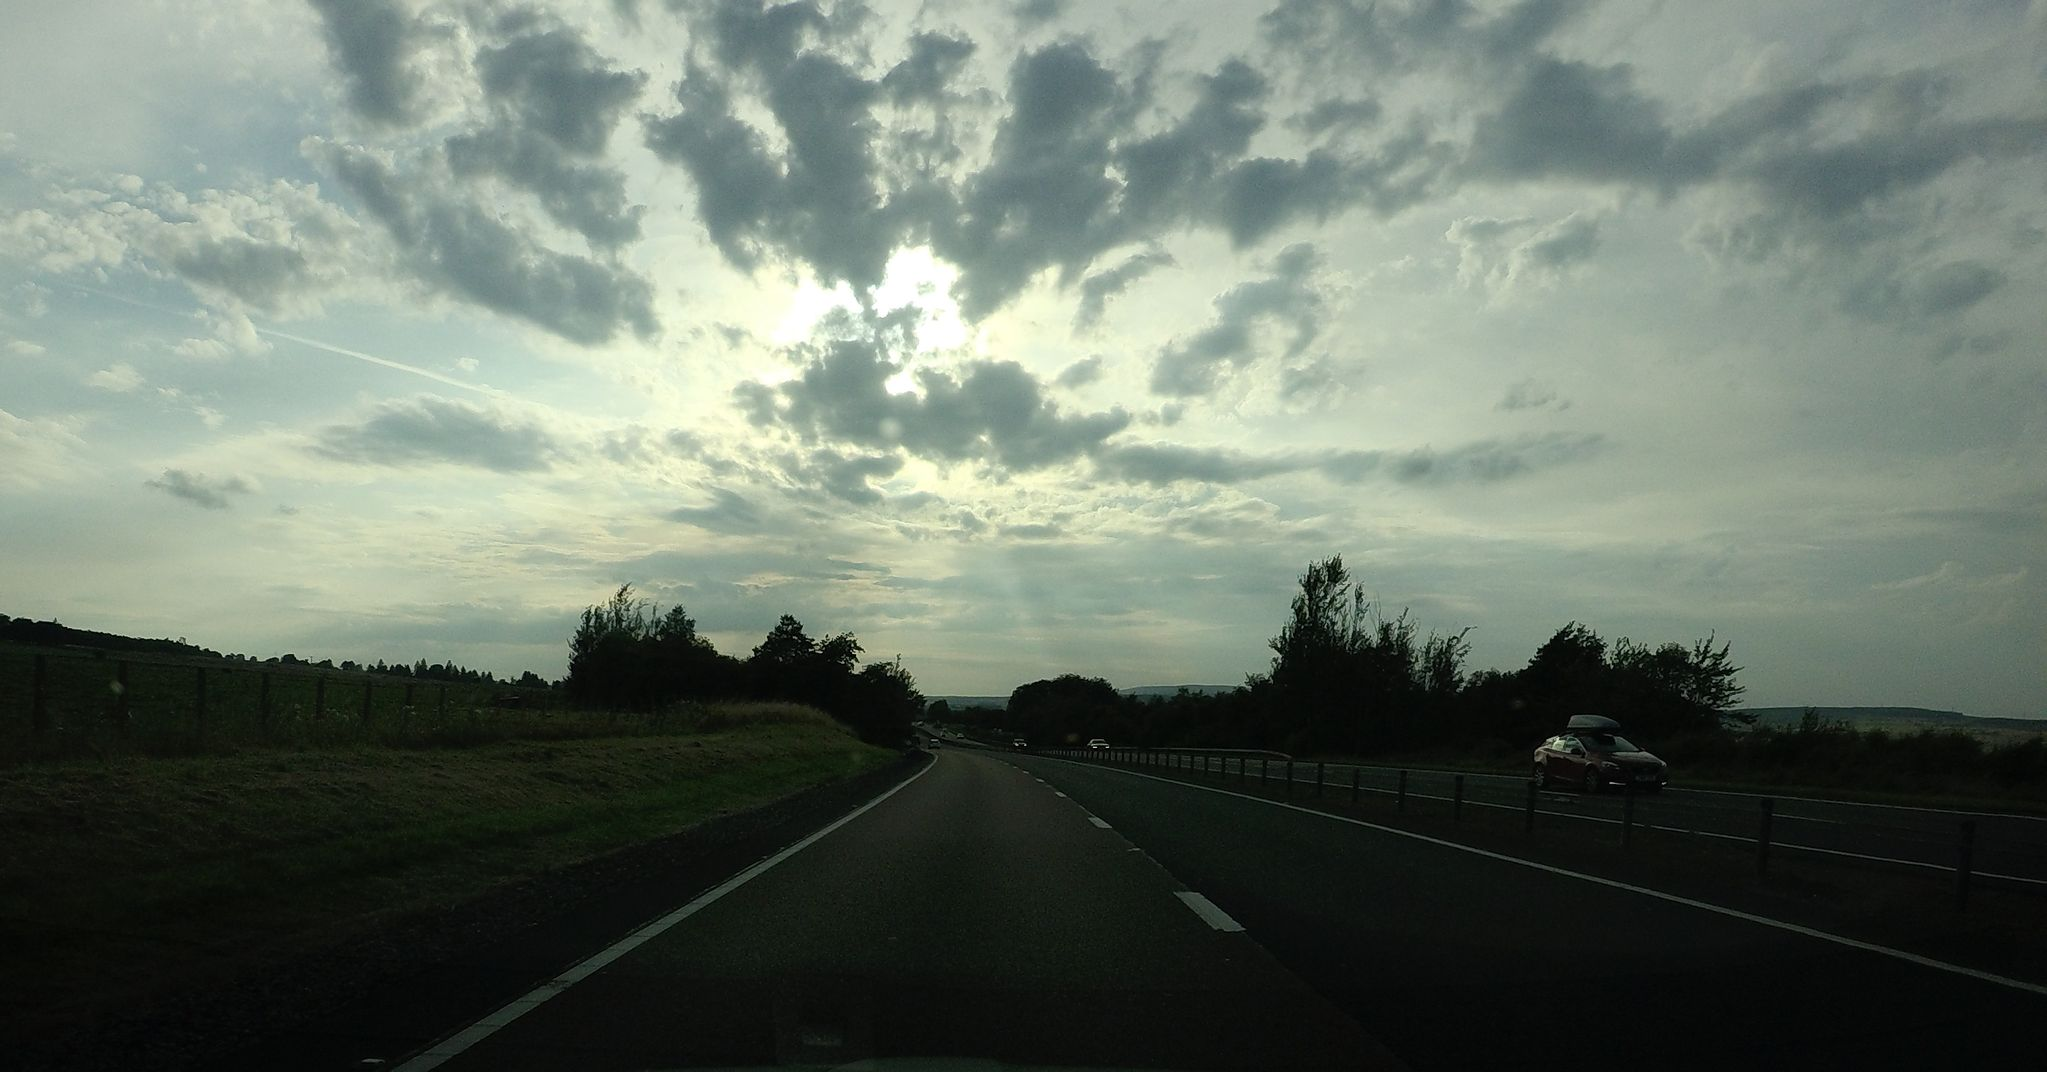car: (1533, 728, 1669, 790), (1084, 738, 1110, 751)
